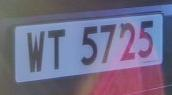2: (117, 20, 139, 65)
5: (78, 22, 100, 71), (136, 18, 157, 62)
7: (97, 20, 118, 65)
T: (46, 26, 73, 77)
W: (23, 26, 48, 80)
